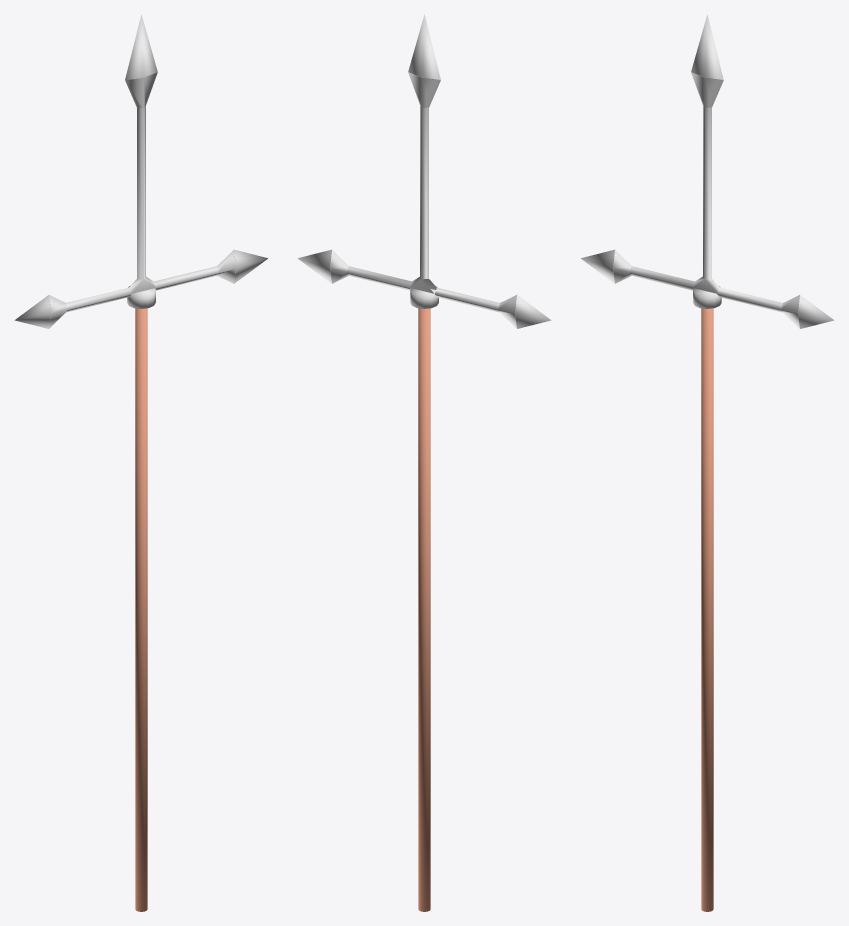
Rendered from tiwaberosuWeapon1.fbx.
3 renders of one model, left to right at view 1: azimuth 30°, elevation 25°; view 2: azimuth 150°, elevation 25°; view 3: azimuth 330°, elevation 25°, orthographic.
Visible parts, largest first — view 1: brade; view 2: brade; view 3: brade.
Boxes of the visible parts, x1,y1,x2,y2 form: brade: (14, 14, 267, 911); brade: (298, 14, 551, 911); brade: (581, 14, 834, 911).
Bounding box in the file's own units: 191 × 642 × 18.75.
